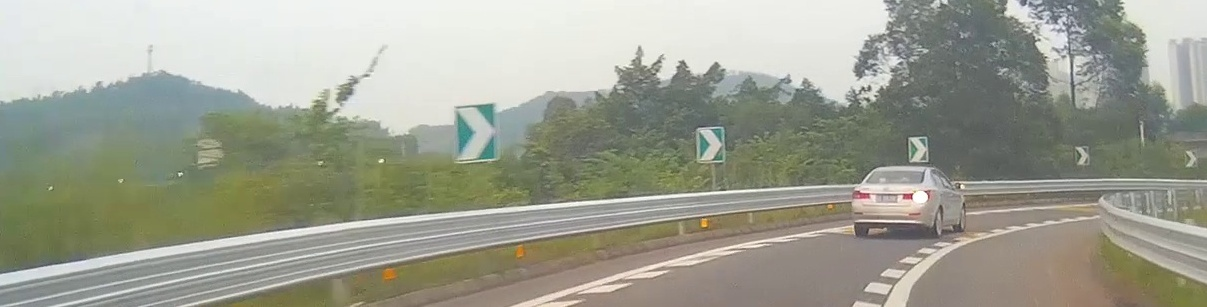L_light: (852, 190, 870, 199)
R_light: (903, 190, 930, 200)
T_light: (890, 170, 903, 173)
day-right: (851, 166, 934, 237)
